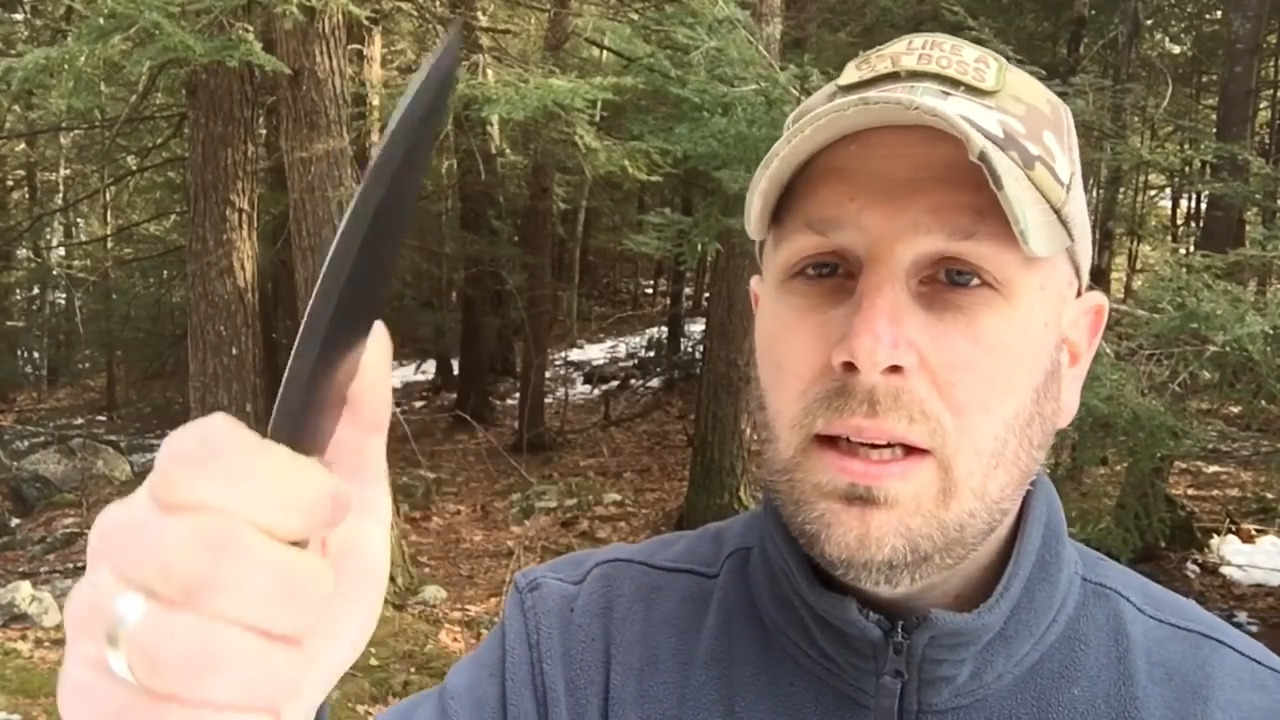knife: (111, 9, 489, 555)
